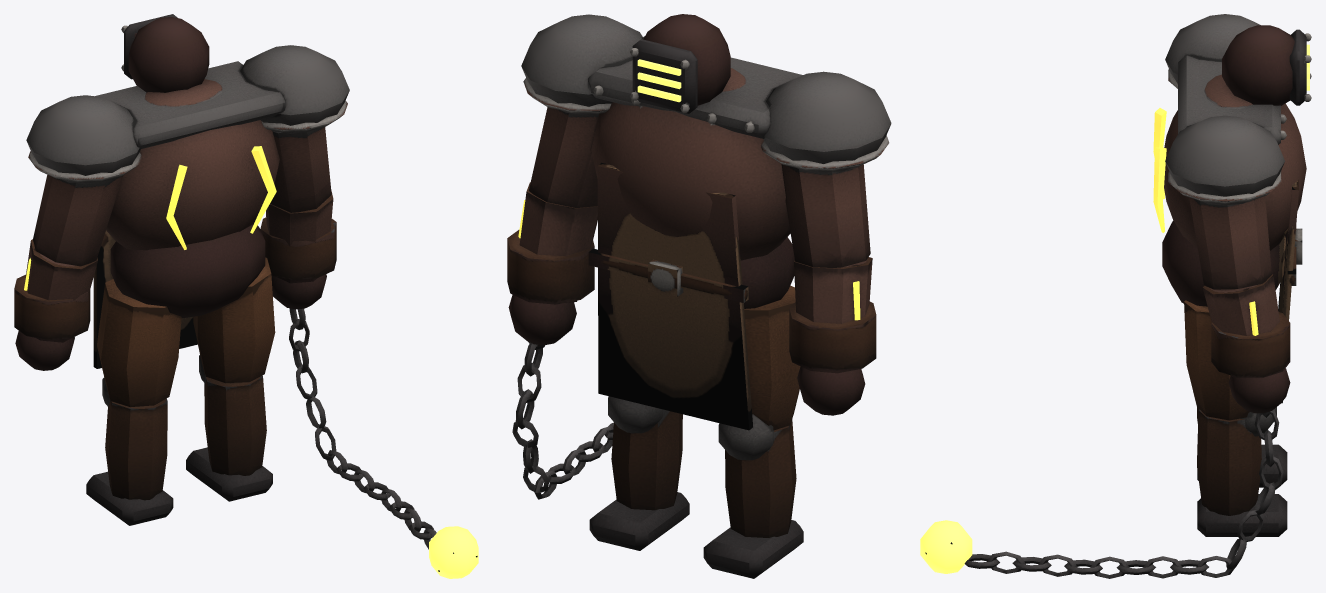
File: elite_molten_taskmaster.fbx
3 views of the same model, side by side, from view 1: azimuth 30°, elevation 25°; view 2: azimuth 150°, elevation 25°; view 3: azimuth 270°, elevation 25° (orthographic). The views are drawn at different scales.
Parts seen in each view (by area): view 1: Body, ArmL, ArmR, ForearmR, LegL, KneeL, KneeR, ForearmL, LegR, Head, ForearmR_Glow_Molten, Body_Glow_Ember; view 2: Body, ArmL, ForearmR, ArmR, ForearmL, KneeL, KneeR, Head, LegL, Head_Glow_Molten; view 3: ArmR, ForearmR, Body, KneeR, Head, LegR, ArmL, ForearmR_Glow_Molten, Body_Glow_Ember, KneeL.
Part boxes in pixels (x1,y1,x2,y2): Body: [93, 61, 285, 368]; ArmL: [26, 95, 141, 266]; ArmR: [240, 45, 349, 212]; ForearmR: [260, 191, 477, 571]; LegL: [97, 279, 181, 406]; KneeL: [86, 377, 173, 525]; KneeR: [186, 355, 272, 501]; ForearmL: [14, 239, 97, 370]; LegR: [193, 257, 275, 383]; Head: [121, 14, 209, 92]; ForearmR_Glow_Molten: [429, 526, 478, 578]; Body_Glow_Ember: [166, 146, 276, 249]; Body: [588, 36, 802, 430]; ArmL: [761, 71, 891, 267]; ForearmR: [507, 182, 613, 499]; ArmR: [521, 14, 643, 207]; ForearmL: [789, 257, 876, 415]; KneeL: [703, 414, 803, 578]; KneeR: [589, 396, 689, 550]; Head: [630, 14, 730, 113]; LegL: [744, 285, 800, 430]; Head_Glow_Molten: [637, 59, 681, 102]; ArmR: [1165, 115, 1284, 289]; ForearmR: [925, 274, 1290, 578]; Body: [1162, 54, 1306, 403]; KneeR: [1197, 407, 1287, 536]; Head: [1222, 25, 1311, 105]; LegR: [1184, 300, 1249, 420]; ArmL: [1165, 14, 1260, 88]; ForearmR_Glow_Molten: [920, 520, 972, 573]; Body_Glow_Ember: [1153, 108, 1166, 232]; KneeL: [1197, 407, 1287, 487].
Size of the model in its own units: 553 by 802 by 593.
Materials: 3 (1 with a texture image).
